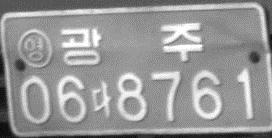0: (19, 76, 50, 124)
1: (228, 68, 263, 120)
6: (190, 68, 222, 121), (56, 75, 86, 123)
7: (149, 70, 182, 121)
8: (115, 72, 147, 121)
광주_D: (59, 22, 203, 66)
다: (90, 80, 113, 116)
영: (17, 28, 53, 69)
